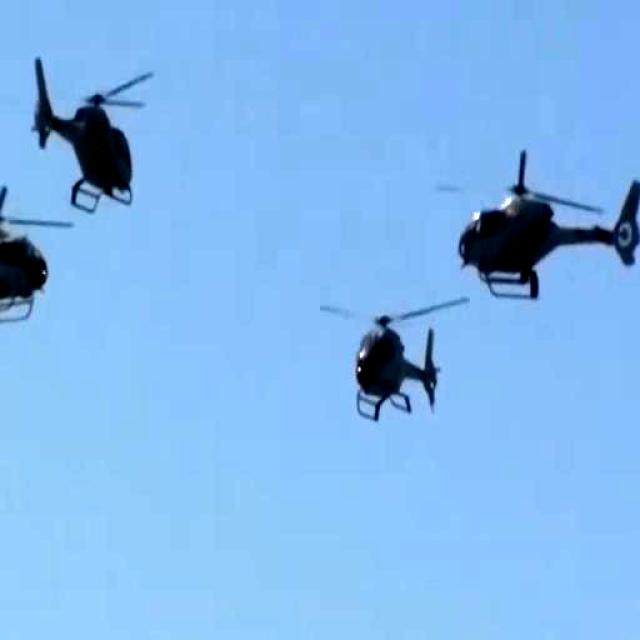drone: (444, 110, 640, 310), (15, 54, 142, 209), (339, 259, 436, 431), (0, 196, 98, 358)
